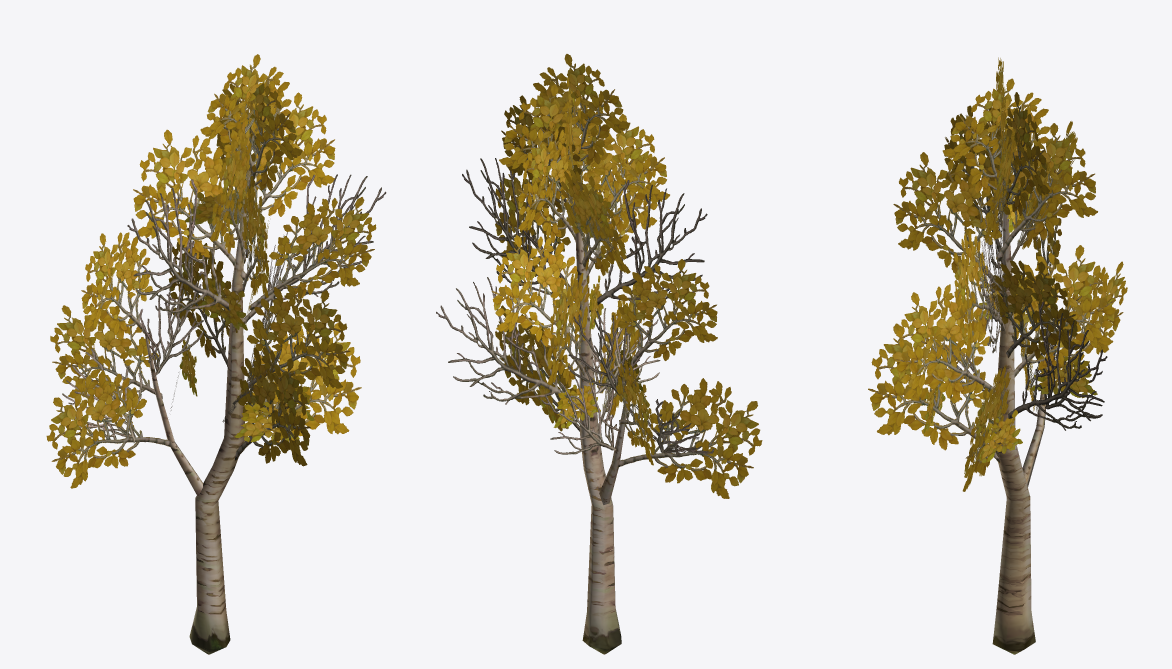
The model's file is White_BirchD.FBX.
3 views of the same model, side by side, from view 1: azimuth 30°, elevation 25°; view 2: azimuth 150°, elevation 25°; view 3: azimuth 270°, elevation 25° (orthographic). The views are drawn at different scales.
Parts seen in each view (by area): view 1: White_BirchD; view 2: White_BirchD; view 3: White_BirchD.
Boxes of the visible parts, x1,y1,x2,y2 form: White_BirchD: (46,54,386,654); White_BirchD: (436,54,762,654); White_BirchD: (868,57,1127,654).
Bounding box in the file's own units: 800 × 1341 × 601.
1 material, 1 textured.
